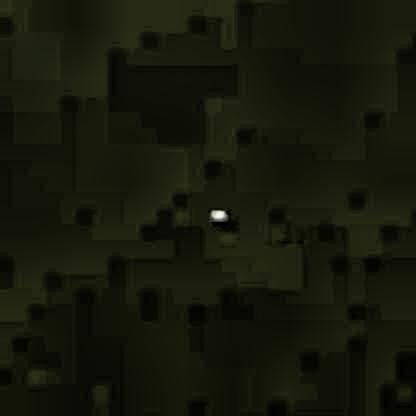golfball: (207, 206, 227, 223)
